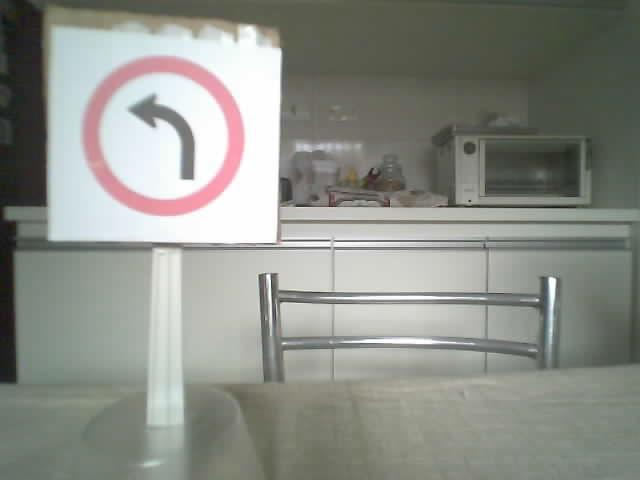R-25a_esquerda: (79, 54, 245, 216)
